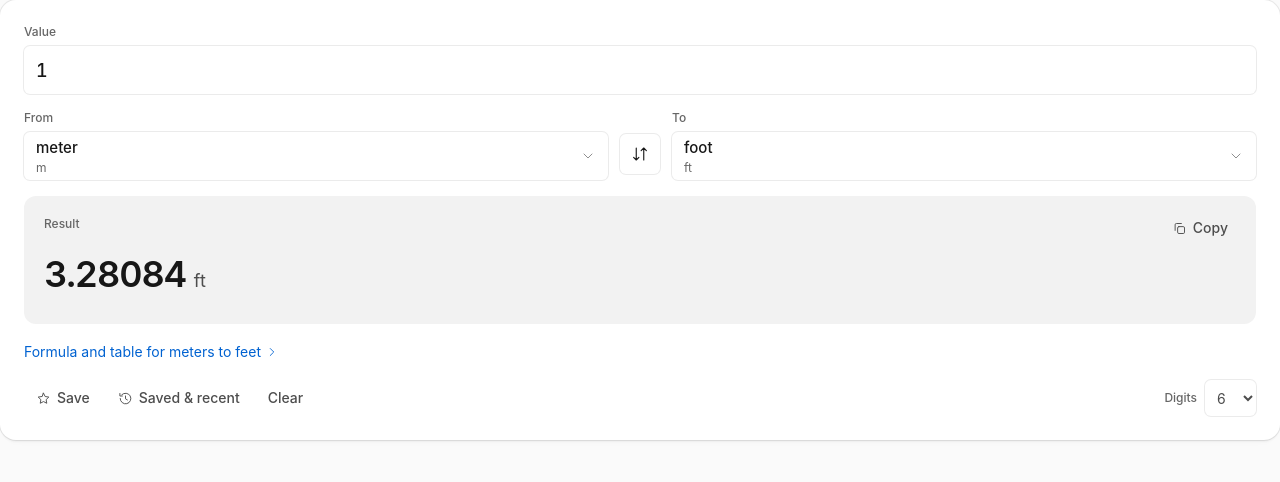
Test: copy › tells the user when copying fails
Click the button with aria-label "copy result" at {"x": 1200, "y": 228}, box [1160,212,1240,244]
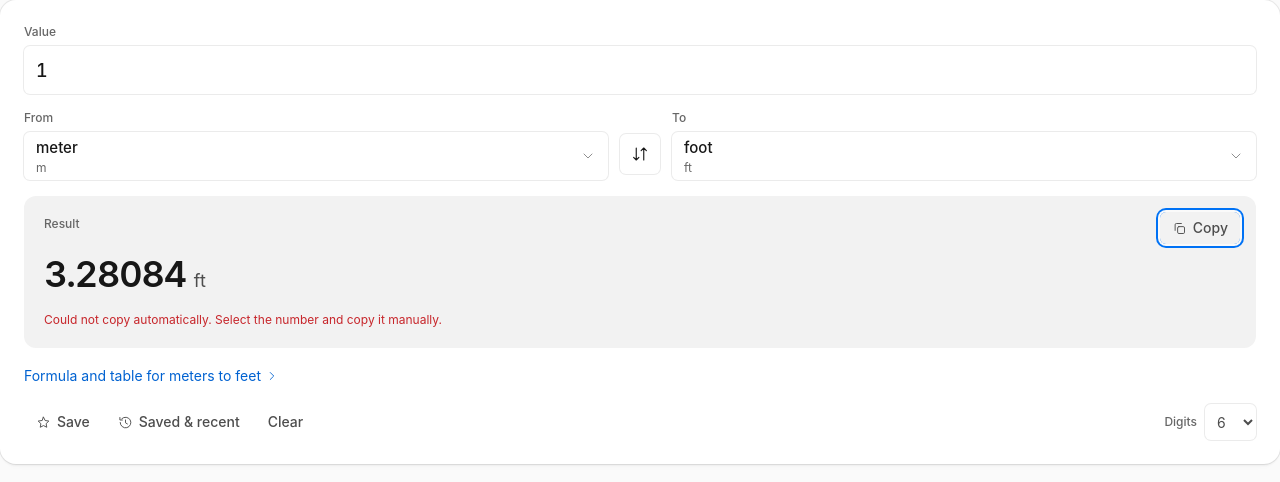
Expected: the message shows "Could not copy", [44,312,442,327]
